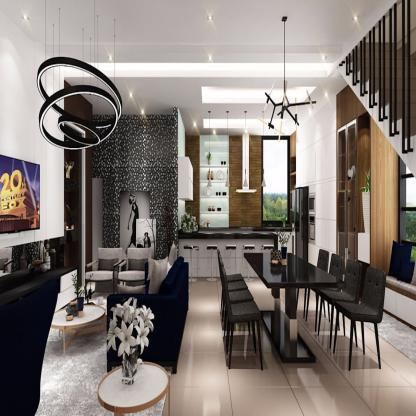bantal: (145, 258, 165, 293)
kursi: (215, 250, 262, 364), (344, 258, 388, 374)
meja: (244, 249, 331, 364)
tanaman: (113, 311, 144, 386)
tv: (1, 153, 41, 234)
